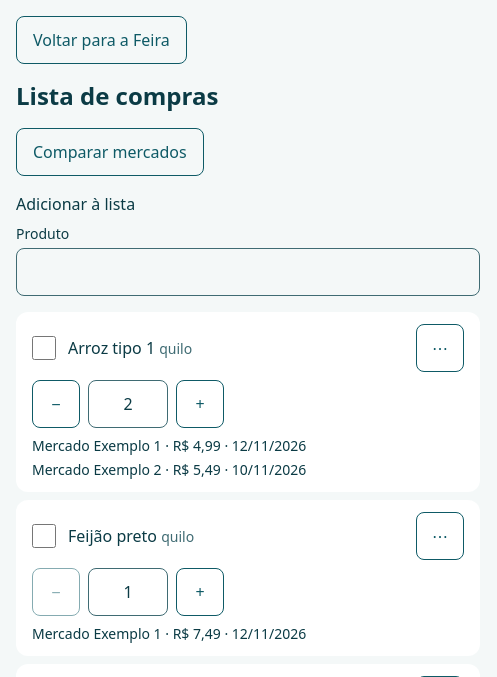
Scenario: ShoppingListPage › staleOrderReloads
Click the button named "Mais opções de Feijão preto" at (440, 536), box [416, 512, 464, 560]
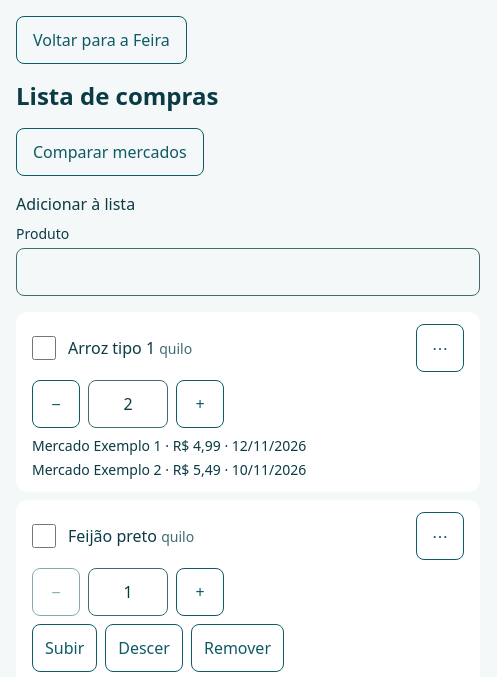
Click the button "Subir" at (65, 648), box [32, 624, 97, 672]
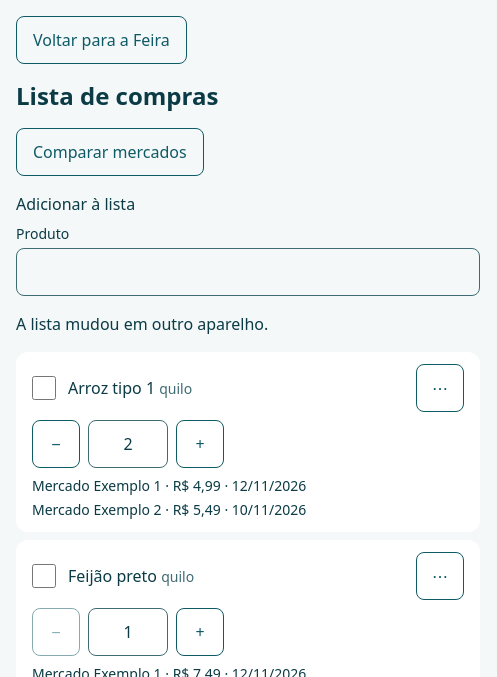
Result: the text "A lista mudou em outro aparelho." is shown at [16, 313, 268, 335]
